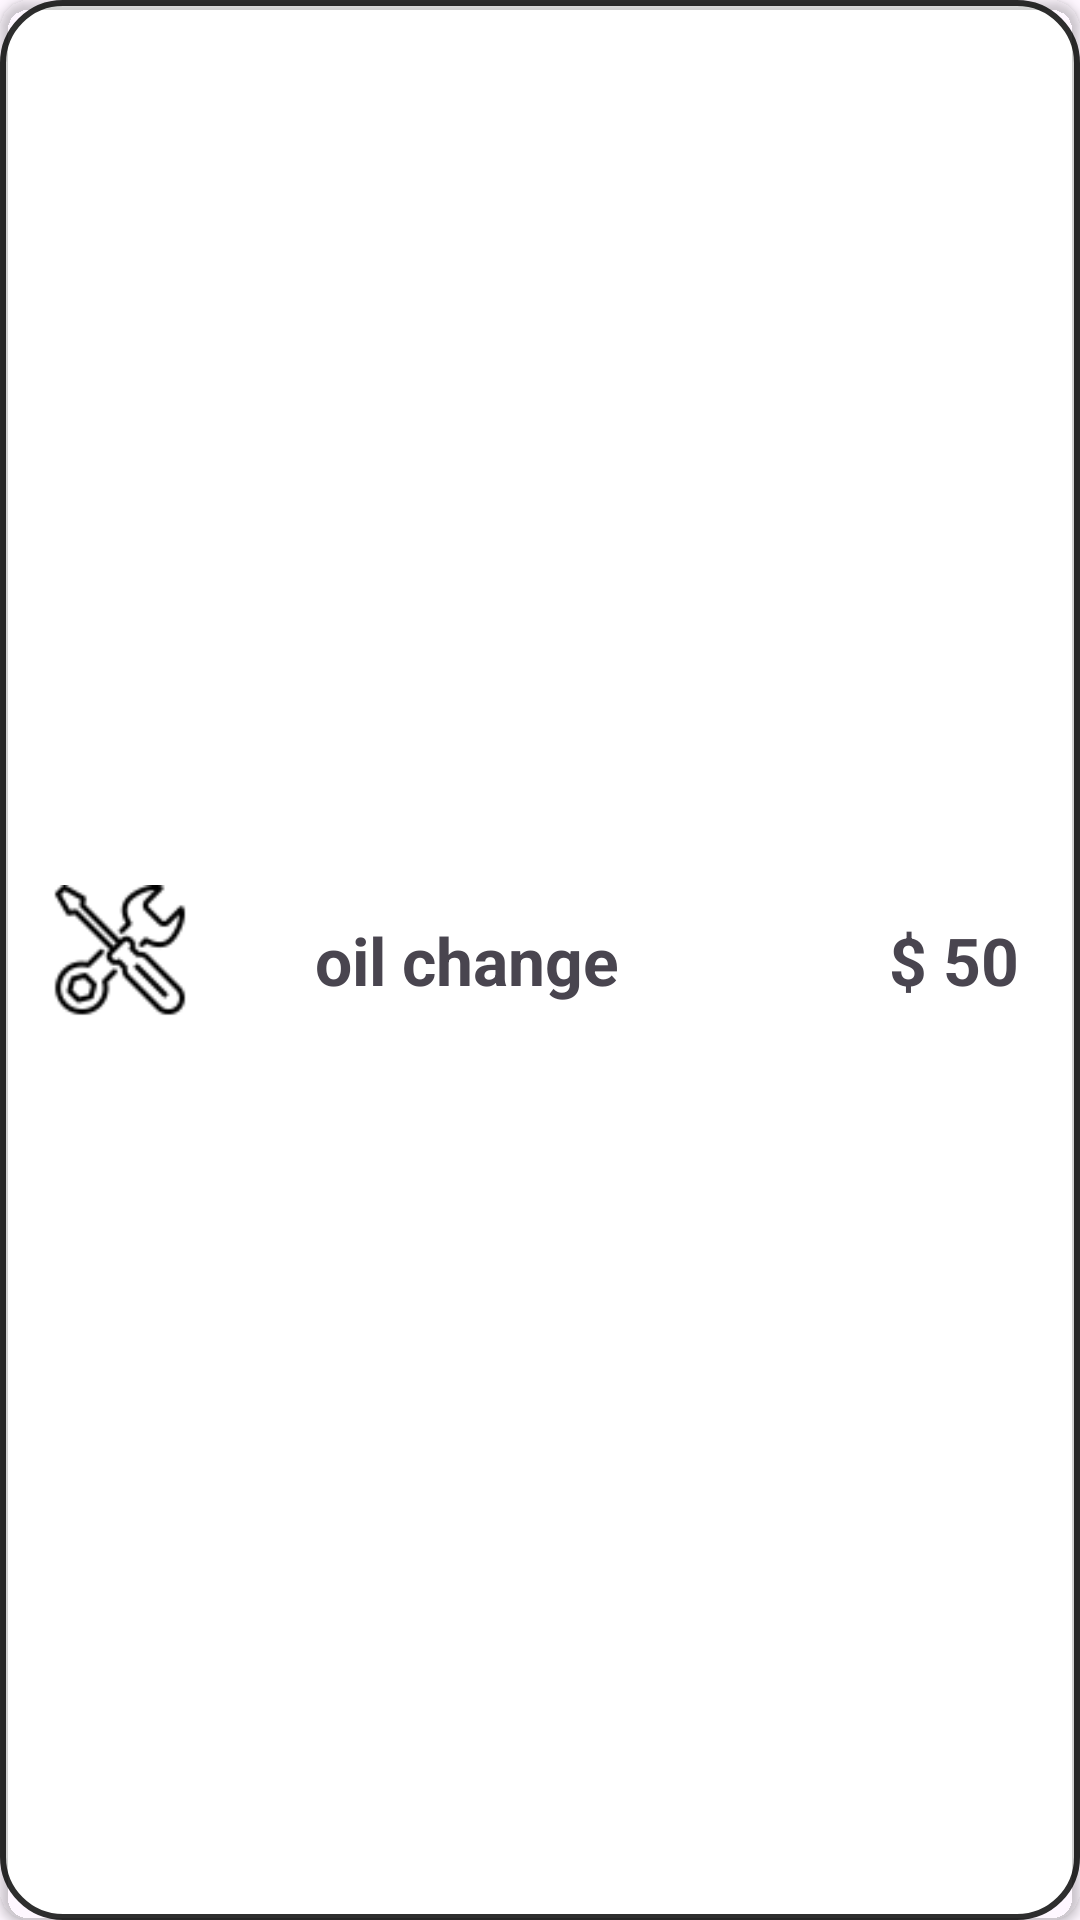

Screen size 1080 x 1920. Icon name, then its box in pixels as [x1,y1,x2,y2]:
tools: [54,885,186,1015]
